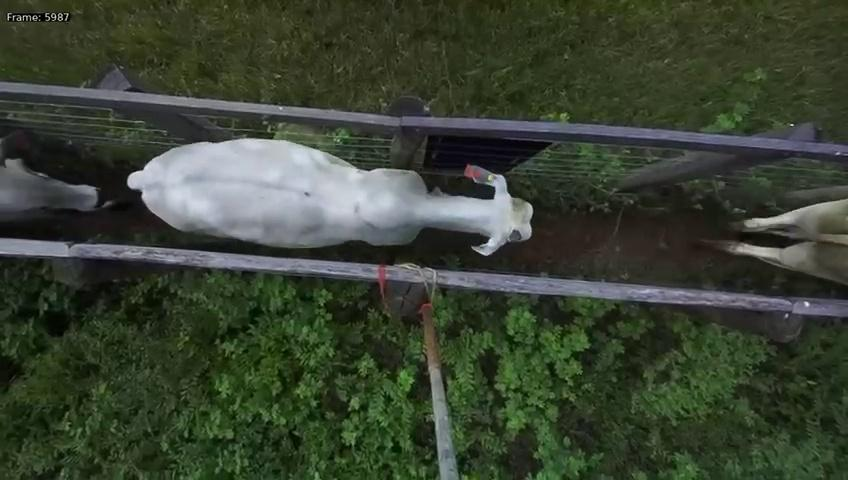cattle: (108, 121, 533, 256)
